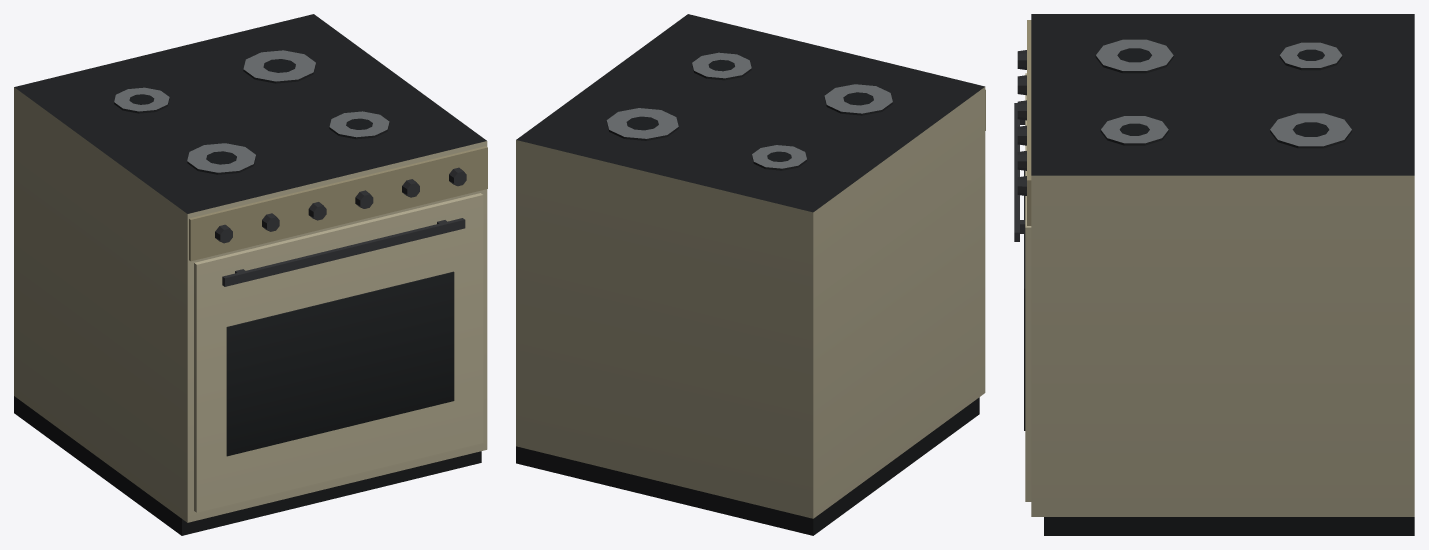
The model's file is appliance.stove.cream.glb.
3 renders of one model, left to right at view 1: azimuth 30°, elevation 25°; view 2: azimuth 150°, elevation 25°; view 3: azimuth 270°, elevation 25°, orthographic. The views are drawn at different scales.
Visible parts, largest first — view 1: appliance_stove_cream; view 2: appliance_stove_cream; view 3: appliance_stove_cream.
Part boxes in pixels (x1,y1,x2,y2): appliance_stove_cream: (14,14,487,535); appliance_stove_cream: (516,14,985,535); appliance_stove_cream: (1014,14,1414,535).
Size of what is drawn, in the model's own units: 0.908 by 0.95 by 0.95.
